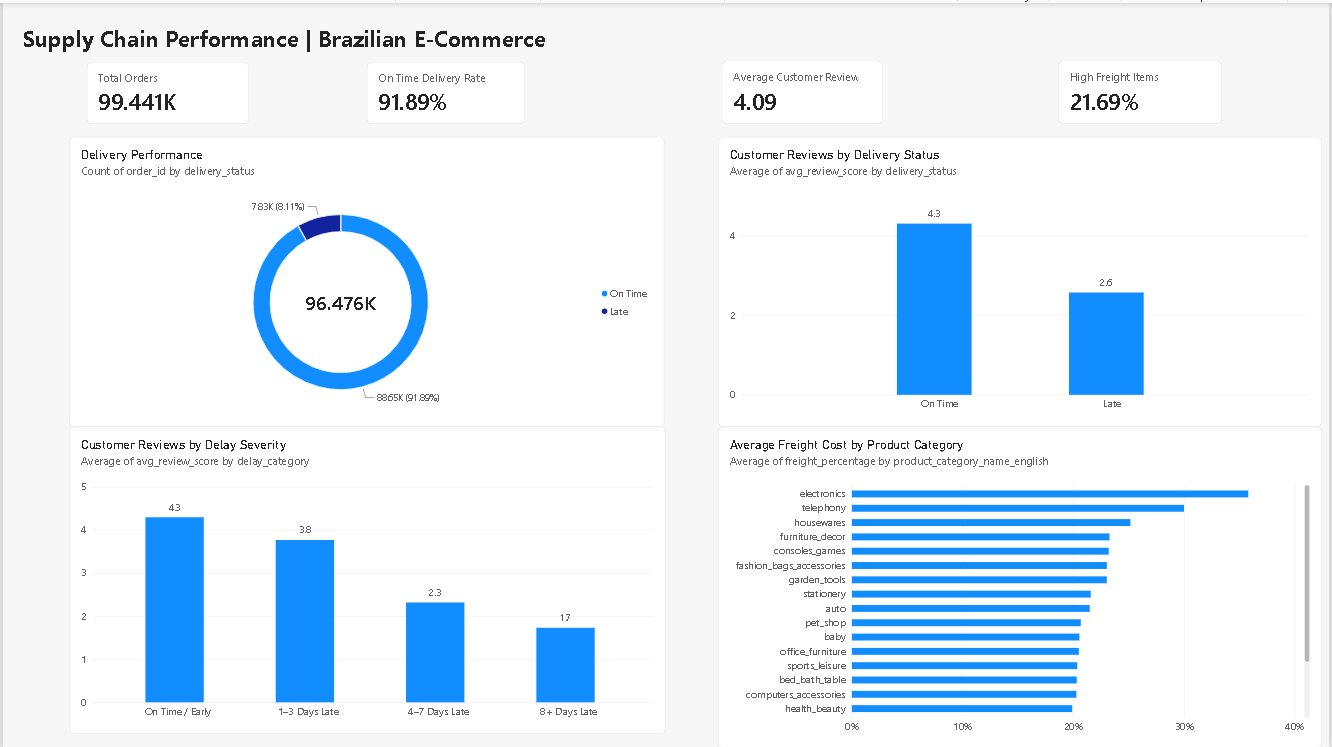

This screenshot's page, from the dashboard's own definition file:
{"tool":"powerbi","page":{"name":"Supply Chain Overview","canvas":[1920,1080],"ordinal":0},"visuals":[{"type":"donutChart","title":"Delivery Performance","fields":{"Category":["olist_orders_dataset.delivery_status"],"Y":["CountNonNull(olist_orders_dataset.order_id)"]},"box":[95.9,193.6,861.4,419.8],"z":0},{"type":"clusteredColumnChart","title":"Customer Reviews by Delivery Status","fields":{"Category":["olist_orders_dataset.delivery_status"],"Y":["Avg(olist_orders_dataset.avg_review_score)"]},"box":[1035.1,193.6,874.1,419.8],"z":1000},{"type":"clusteredColumnChart","title":"Customer Reviews by Delay Severity","fields":{"Category":["olist_orders_dataset.delay_category"],"Y":["Avg(olist_orders_dataset.avg_review_score)"]},"box":[95.9,613.5,863.2,445.2],"z":2000},{"type":"clusteredBarChart","title":"Average Freight Cost by Product Category","fields":{"Category":["product_category_name_translation.product_category_name_english"],"Y":["Avg(olist_order_items_dataset.freight_percentage)"]},"box":[1035.5,612.7,874.1,466.9],"z":3000},{"type":"cardVisual","fields":{"Data":["Count(olist_orders_dataset.order_id)"]},"box":[121.2,85.1,235.3,90.5],"z":4000},{"type":"cardVisual","fields":{"Data":["olist_order_items_dataset.On Time Delivery Rate"]},"box":[526.6,85.1,229.8,90.5],"z":4001},{"type":"cardVisual","fields":{"Data":["Avg(olist_orders_dataset.avg_review_score)"]},"box":[1040.6,83.2,233.4,92.3],"z":4002},{"type":"cardVisual","fields":{"Data":["olist_order_items_dataset.High Freight Items Rate"]},"box":[1527.4,83.2,237.1,92.3],"z":4003},{"type":"textbox","box":[29,29,866.8,54.3],"z":4004}]}

Visuals, with their boxes in screenshot pixels (x1, y1, x2, y2), scaled from the page's 1920x1080 canvas onto the 1332x747 screenshot:
"Delivery Performance" donutChart: l=67, t=134, r=664, b=424
"Customer Reviews by Delivery Status" clusteredColumnChart: l=718, t=134, r=1325, b=424
"Customer Reviews by Delay Severity" clusteredColumnChart: l=67, t=424, r=665, b=732
"Average Freight Cost by Product Category" clusteredBarChart: l=718, t=424, r=1325, b=746
cardVisual - Count(olist_orders_dataset.order_id): l=84, t=59, r=247, b=121
cardVisual - olist_order_items_dataset.On Time Delivery Rate: l=365, t=59, r=525, b=121
cardVisual - Avg(olist_orders_dataset.avg_review_score): l=722, t=58, r=884, b=121
cardVisual - olist_order_items_dataset.High Freight Items Rate: l=1060, t=58, r=1224, b=121
textbox: l=20, t=20, r=621, b=58
